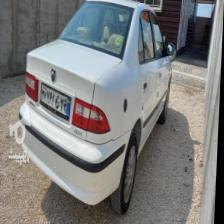plate: (41, 83, 73, 122)
